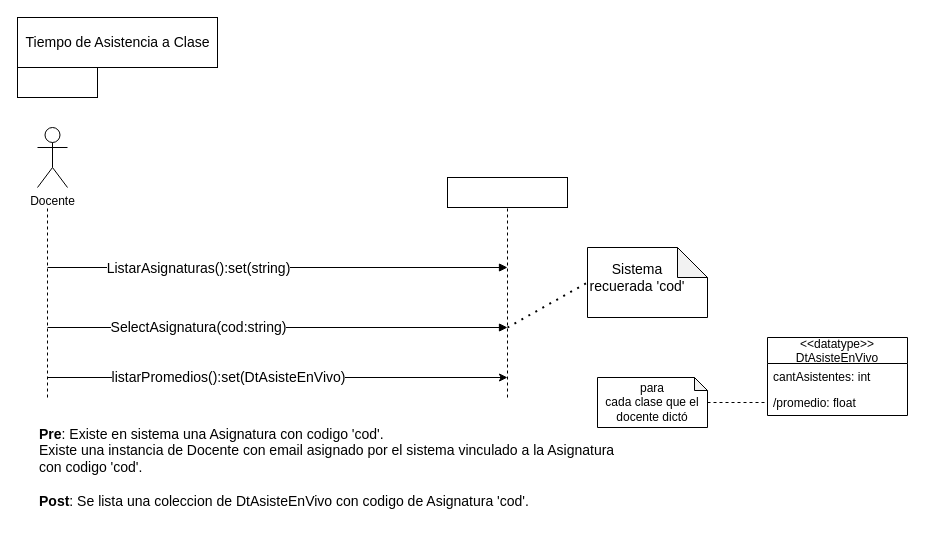
Image size: 925x545. Some labels were removed from this diagram. Here are the shapes that lost their labels. From the top down, the centre of each, then its label:
[57,82]: Con memoria
[507,192]: :Sistema
